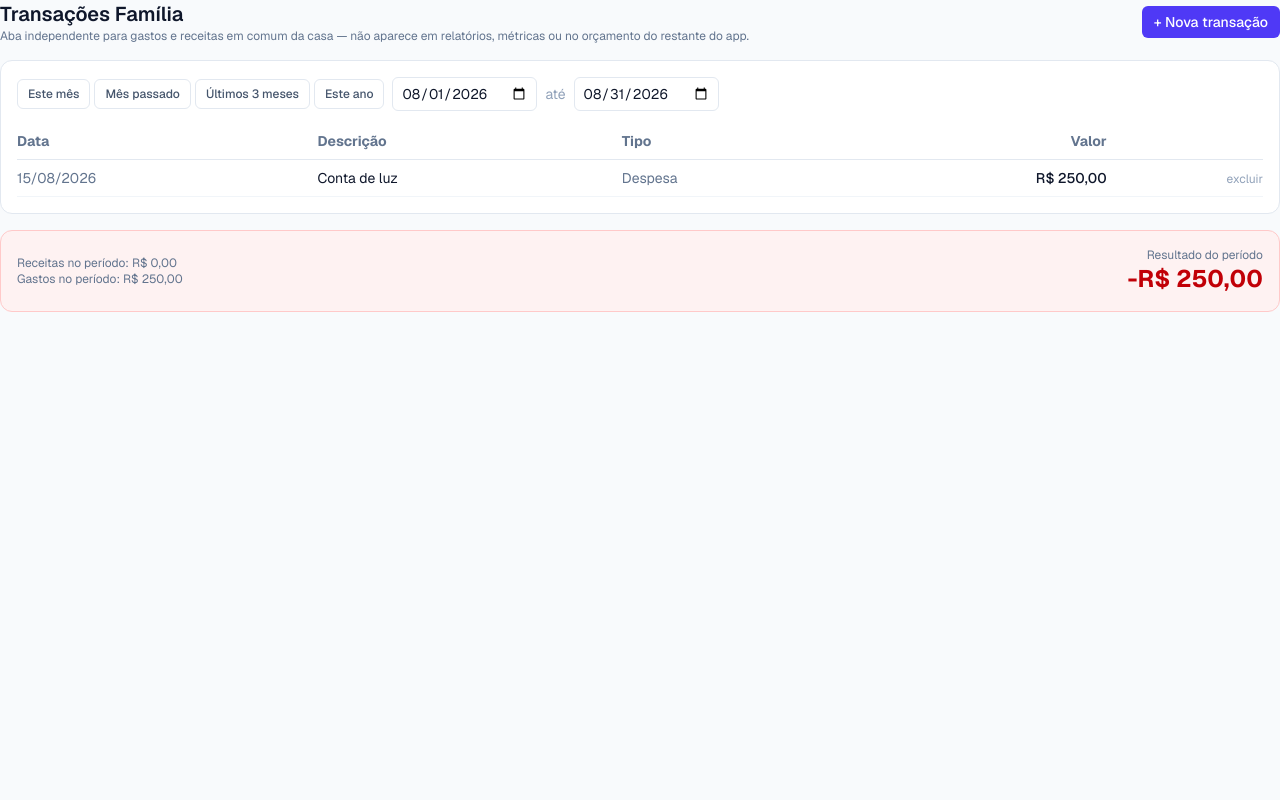
Test: página /transacoes-familia — exclusão › pede confirmação nomeando o lançamento
Expected: the text "Conta de luz" is shown, [318,160,622,196]
Click the button "excluir": (1245, 179) [1227,171,1263,187]
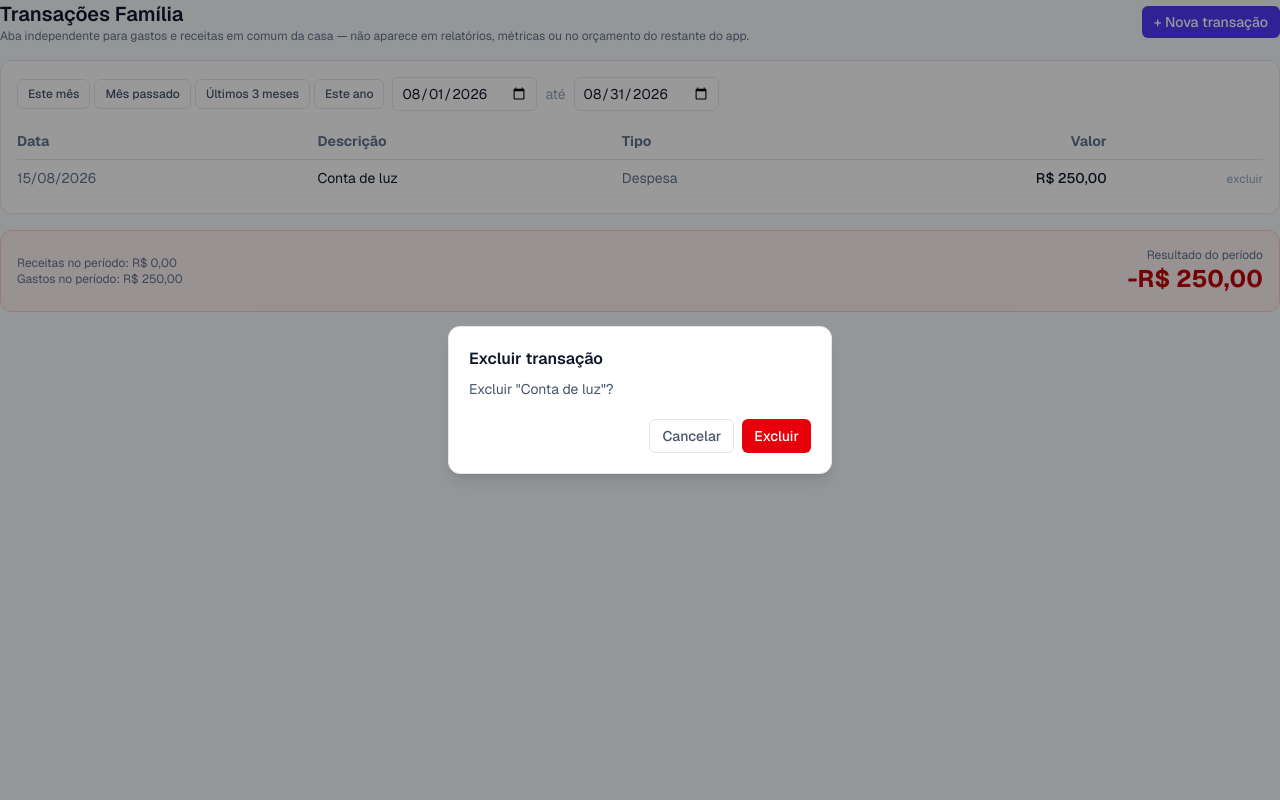
Result: the heading "Excluir transação" is shown at [469,348,603,369]
Result: the text "Excluir \"Conta de luz\"?" is shown at [469,380,614,398]
